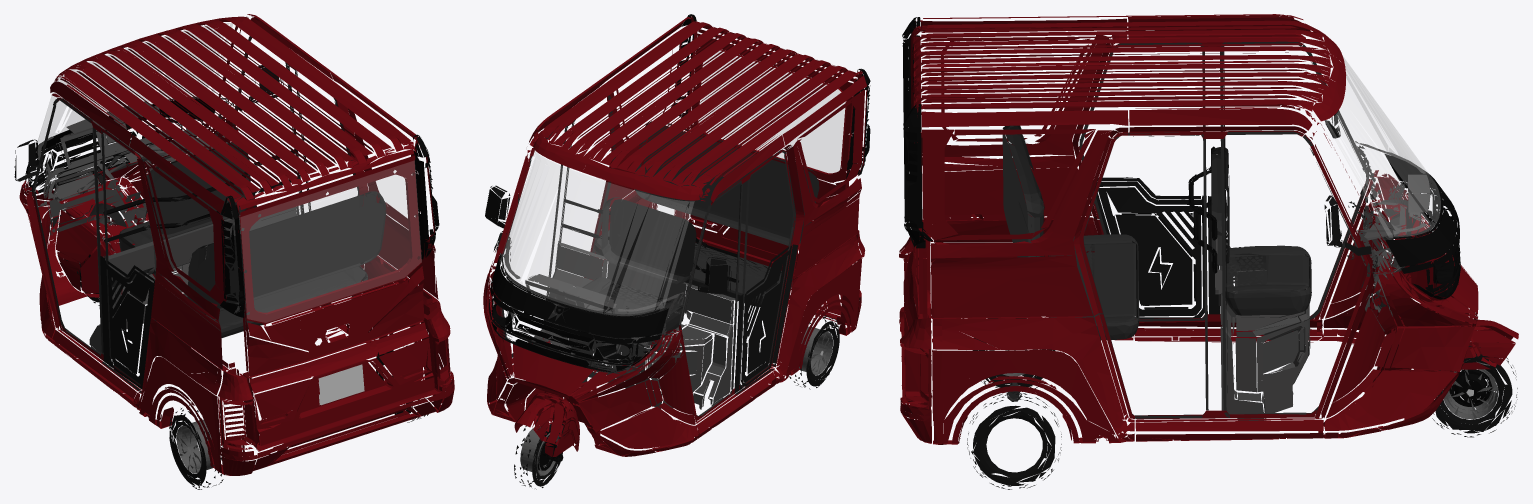
File: etx.gltf
The picture shows the model from 3 angles, left to right: view 1: azimuth 30°, elevation 25°; view 2: azimuth 150°, elevation 25°; view 3: azimuth 270°, elevation 25°; orthographic projection. The views are drawn at different scales.
Visible parts, largest first — view 1: mesh936; view 2: mesh936; view 3: mesh936.
Boxes of the visible parts, x1,y1,x2,y2 form: mesh936: [14, 14, 454, 489]; mesh936: [483, 14, 870, 489]; mesh936: [899, 14, 1518, 489].
Size of the model in its own units: 1.51 by 1.81 by 2.64.
